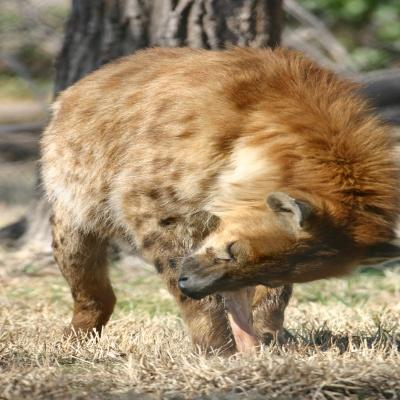hyenas: (17, 25, 400, 355)
